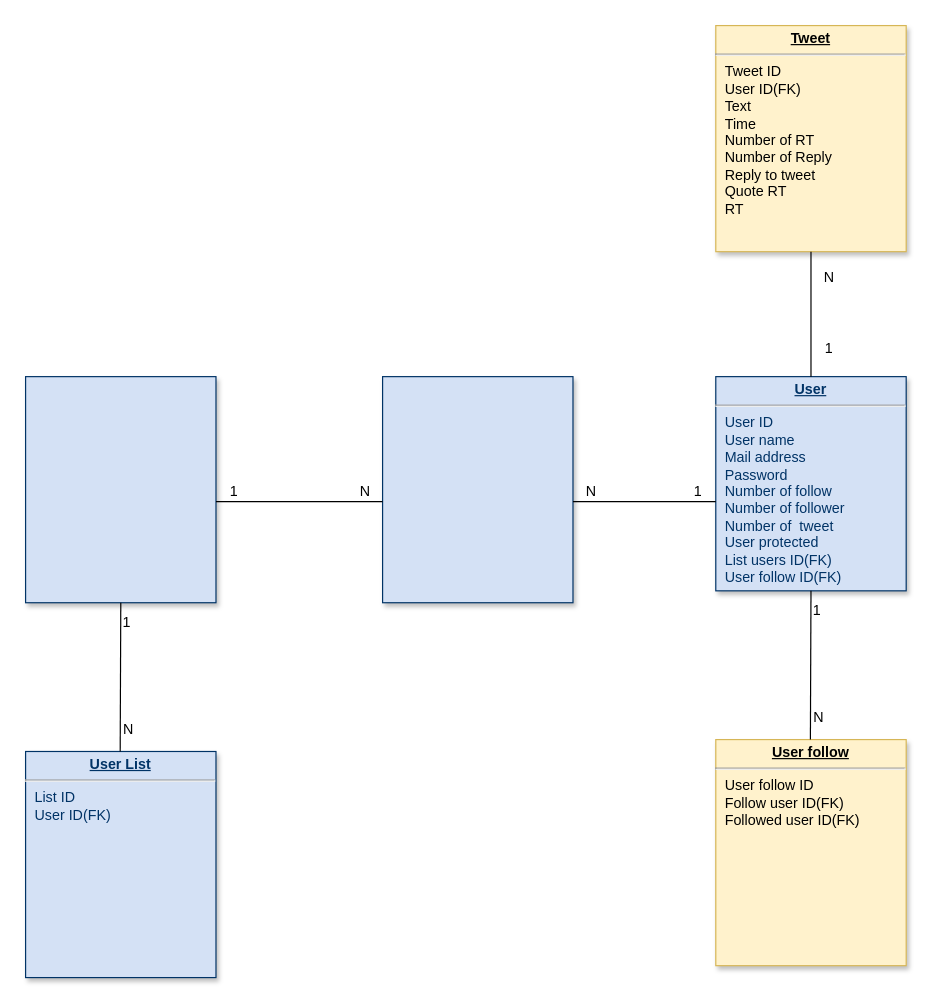
Image size: 934x1007. Some labels were removed from this diagram. Here are the shapes that lost their labels. From the top down, the centre of each, then its label:
the point at 121,491: List List ID Author ID List name User List(FK) List users ID(FK) List protected
the point at 478,491: List_users List users ID List ID(FK) User ID(FK)
